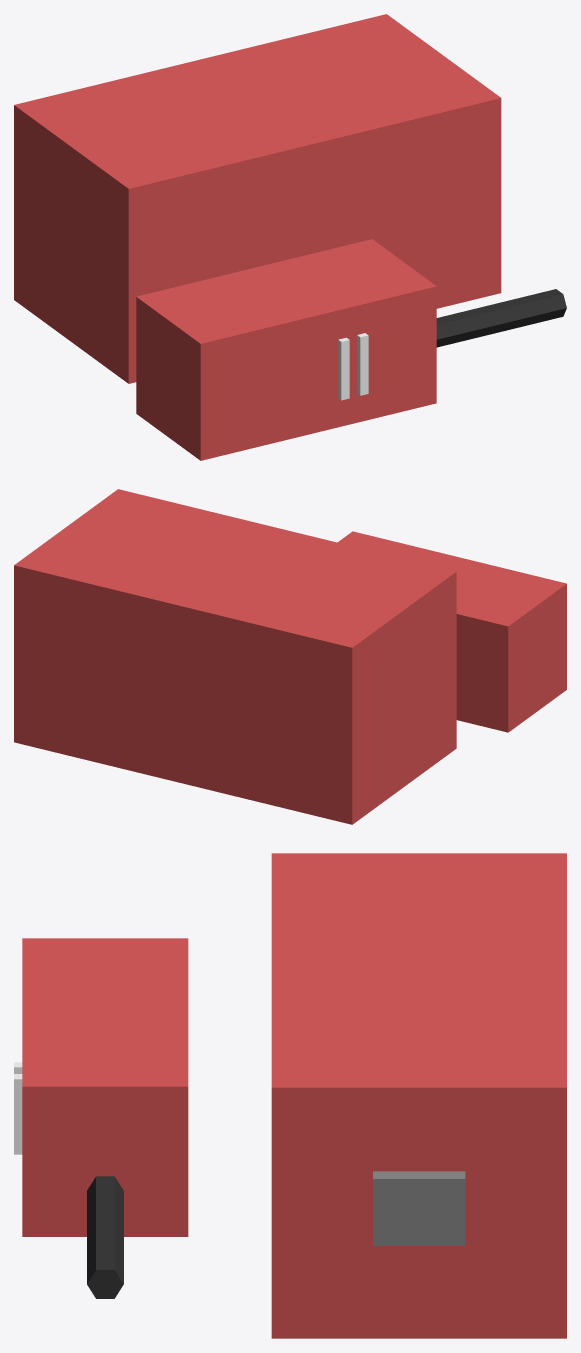
File: ce_ammo2_flame_napalm_b.obj
The picture shows the model from 3 angles, top to bottom: view 1: azimuth 30°, elevation 25°; view 2: azimuth 150°, elevation 25°; view 3: azimuth 270°, elevation 25°; orthographic projection. The views are drawn at different scales.
Visible parts, largest first — view 1: ce_ammo2_flame_napalm_b_0, ce_ammo2_flame_napalm_b_2, ce_ammo2_flame_napalm_b_5, ce_ammo2_flame_napalm_b_3, ce_ammo2_flame_napalm_b_4; view 2: ce_ammo2_flame_napalm_b_0, ce_ammo2_flame_napalm_b_2; view 3: ce_ammo2_flame_napalm_b_0, ce_ammo2_flame_napalm_b_2, ce_ammo2_flame_napalm_b_1, ce_ammo2_flame_napalm_b_5, ce_ammo2_flame_napalm_b_4.
Boxes of the visible parts, x1=… form: ce_ammo2_flame_napalm_b_0: x1=14, y1=14, x2=501, y2=383; ce_ammo2_flame_napalm_b_2: x1=136, y1=239, x2=436, y2=460; ce_ammo2_flame_napalm_b_5: x1=436, y1=289, x2=566, y2=347; ce_ammo2_flame_napalm_b_3: x1=338, y1=337, x2=349, y2=400; ce_ammo2_flame_napalm_b_4: x1=357, y1=333, x2=368, y2=395; ce_ammo2_flame_napalm_b_0: x1=14, y1=489, x2=456, y2=824; ce_ammo2_flame_napalm_b_2: x1=337, y1=531, x2=566, y2=732; ce_ammo2_flame_napalm_b_0: x1=271, y1=853, x2=566, y2=1338; ce_ammo2_flame_napalm_b_2: x1=22, y1=938, x2=188, y2=1236; ce_ammo2_flame_napalm_b_1: x1=373, y1=1171, x2=465, y2=1245; ce_ammo2_flame_napalm_b_5: x1=87, y1=1176, x2=123, y2=1298; ce_ammo2_flame_napalm_b_4: x1=14, y1=1074, x2=22, y2=1154.
Size of the model in its own units: 0.66 by 0.3 by 0.599.
